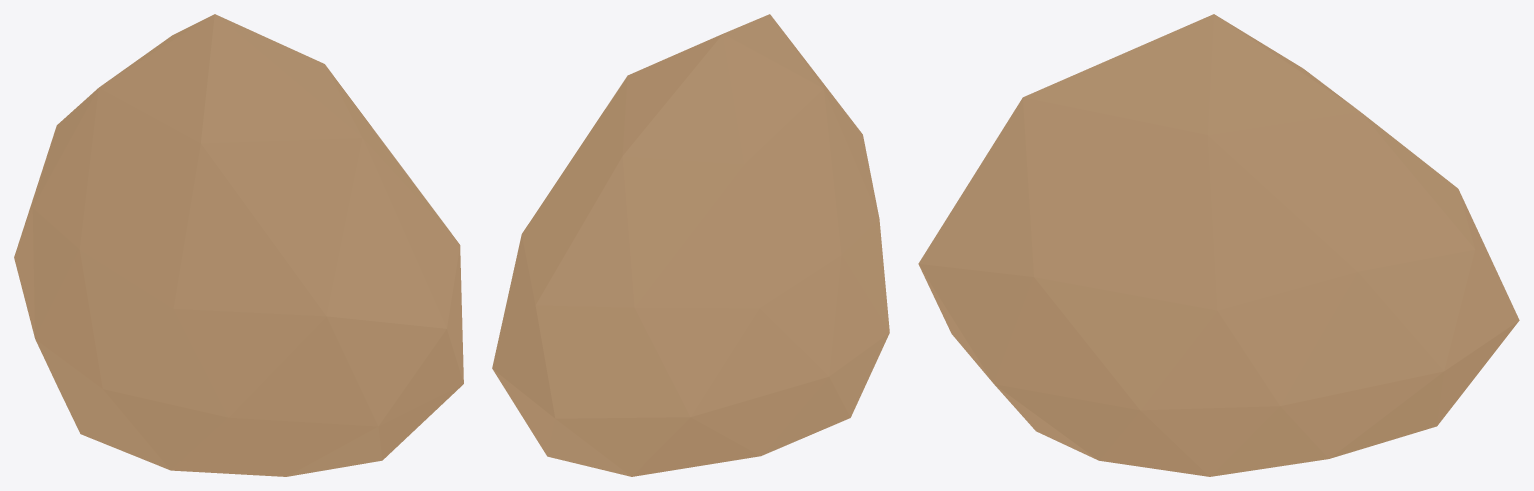
File: rock_type_05.glb
3 views of the same model, side by side, from view 1: azimuth 30°, elevation 25°; view 2: azimuth 150°, elevation 25°; view 3: azimuth 270°, elevation 25° (orthographic). The views are drawn at different scales.
Visible parts, largest first — view 1: rock_2; view 2: rock_2; view 3: rock_2.
Part boxes in pixels (left/top/right/bottom): rock_2: left=14, top=14, right=463, bottom=476; rock_2: left=492, top=14, right=889, bottom=476; rock_2: left=918, top=14, right=1519, bottom=476.
Bounding box in the file's own units: 1.9 × 2.07 × 2.96.
